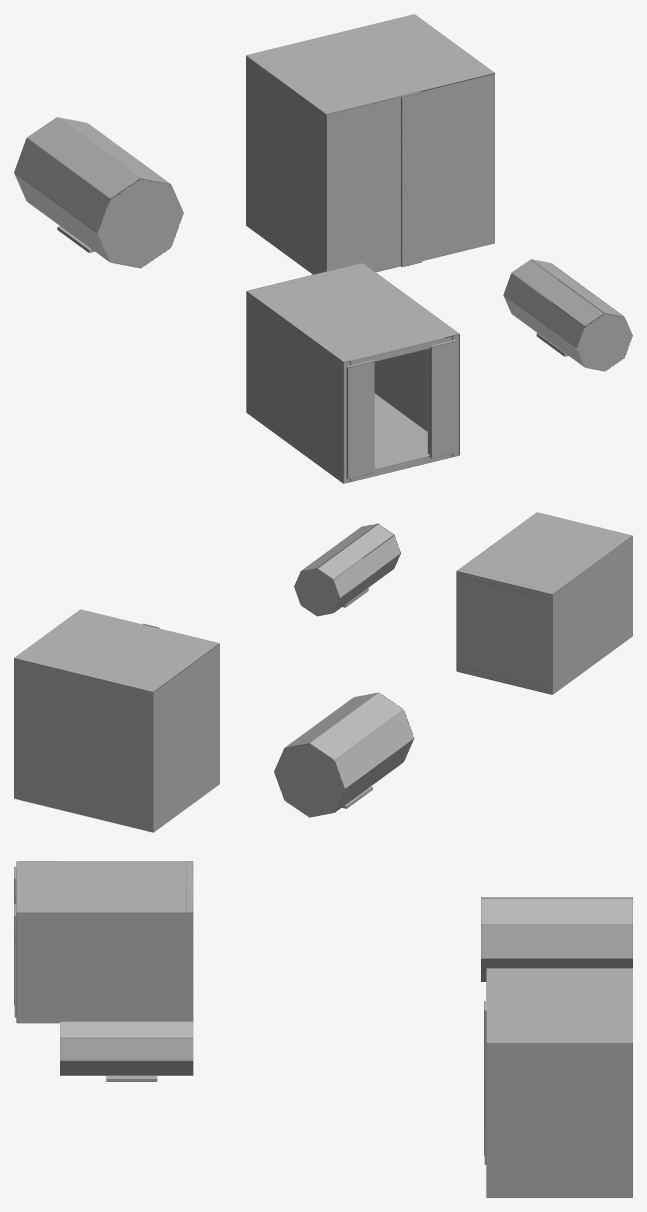
The model's file is contents_books_misc_02_52.obj.
The picture shows the model from 3 angles, top to bottom: view 1: azimuth 30°, elevation 25°; view 2: azimuth 150°, elevation 25°; view 3: azimuth 270°, elevation 25°; orthographic projection. The views are drawn at different scales.
Parts seen in each view (by area): view 1: contents_books_misc_02_52; view 2: contents_books_misc_02_52; view 3: contents_books_misc_02_52.
Boxes of the visible parts, box(x1,y1,x2,y2) form: contents_books_misc_02_52: box(14, 14, 632, 483); contents_books_misc_02_52: box(14, 512, 632, 832); contents_books_misc_02_52: box(14, 861, 632, 1197).
Size of the model in its own units: 0.705 by 0.28 by 1.01.
1 material, 1 textured.
